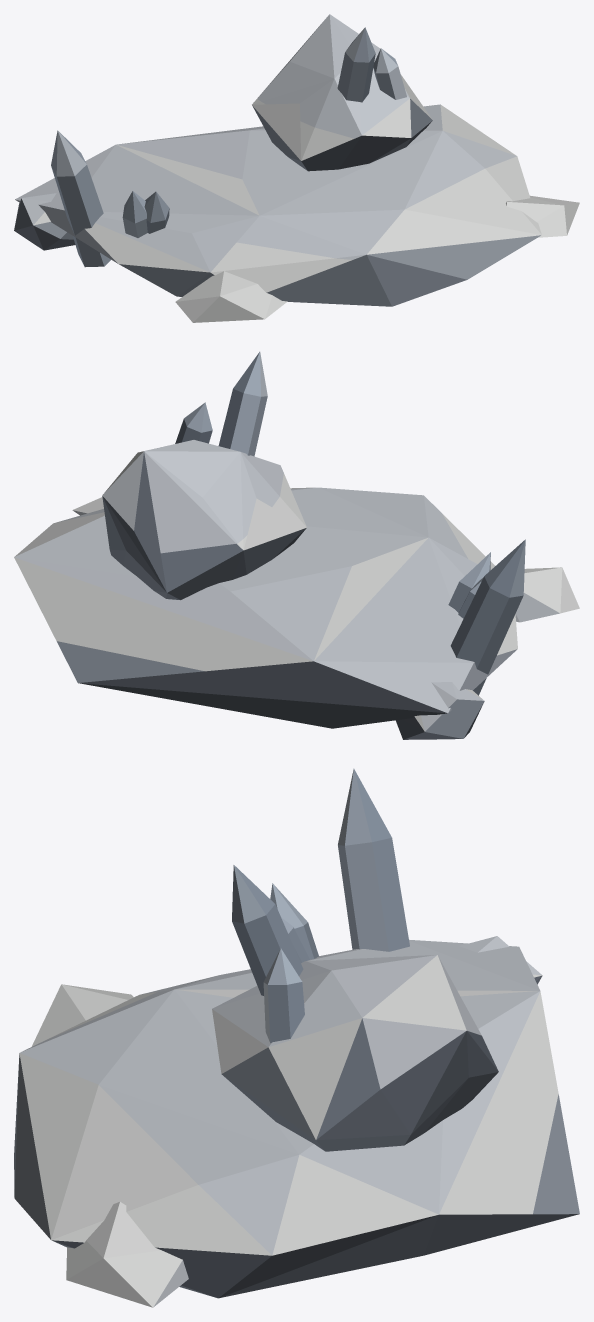
File: rock_arctic_1.glb
The picture shows the model from 3 angles, top to bottom: view 1: azimuth 30°, elevation 25°; view 2: azimuth 150°, elevation 25°; view 3: azimuth 270°, elevation 25°; orthographic projection. The views are drawn at different scales.
Parts seen in each view (by area): view 1: Body; view 2: Body; view 3: Body.
Part boxes in pixels (bbox=[...]): Body: bbox=[14, 14, 579, 322]; Body: bbox=[14, 351, 579, 739]; Body: bbox=[14, 768, 579, 1307].
Size of the model in its own units: 4.21 by 1.95 by 3.
